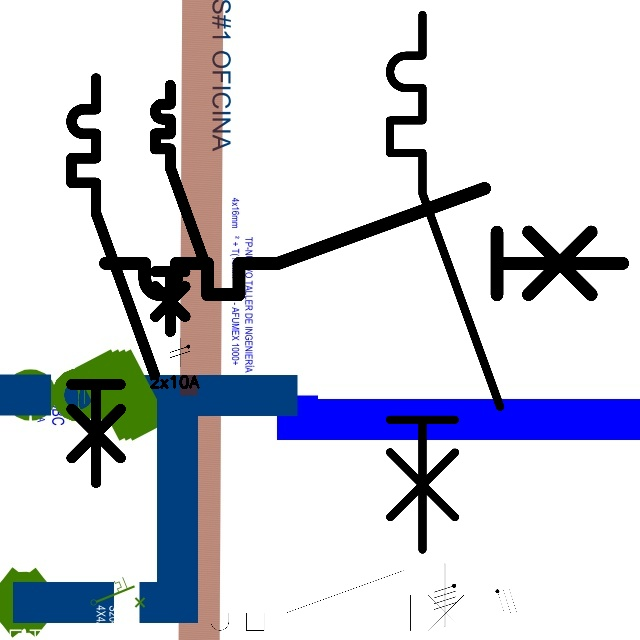interruptor_termomagnetico: (376, 1, 513, 563), (92, 175, 635, 308), (61, 68, 165, 492), (181, 563, 489, 638), (149, 79, 212, 338)
